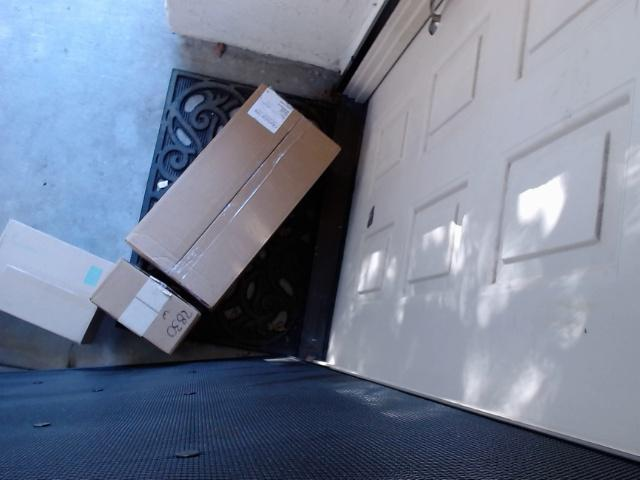box: (142, 82, 336, 319), (0, 211, 117, 356), (89, 252, 224, 362)
